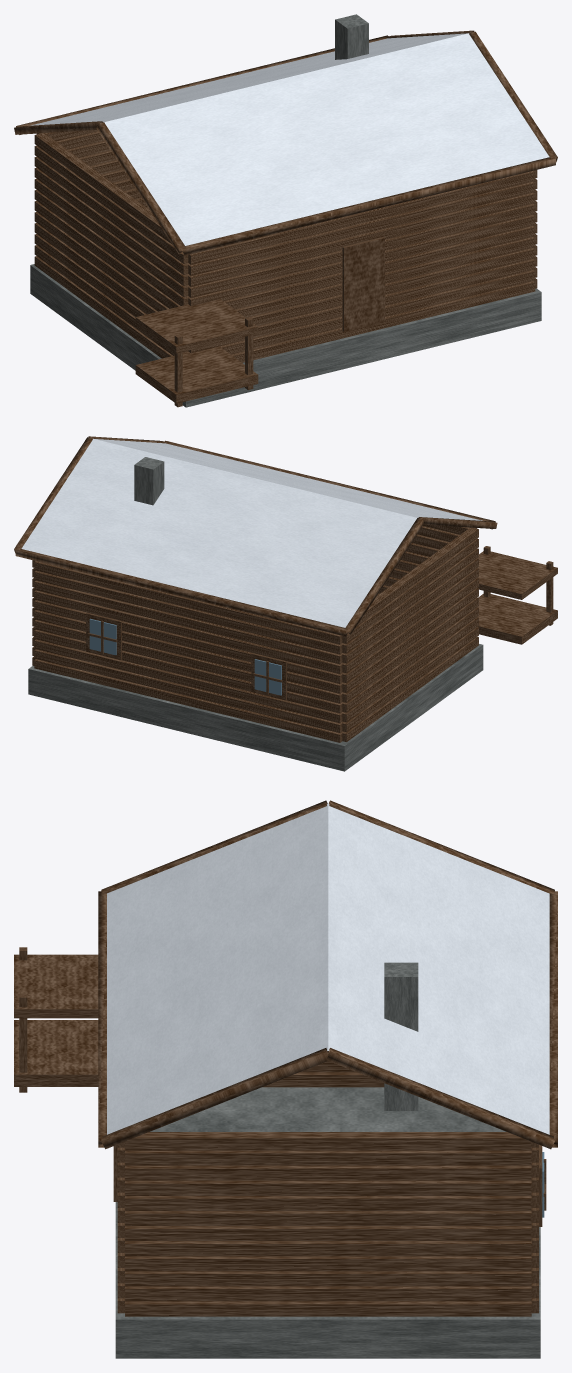
Rendered from farmhouse.obj.
3 renders of one model, top to bottom at view 1: azimuth 30°, elevation 25°; view 2: azimuth 150°, elevation 25°; view 3: azimuth 270°, elevation 25°, orthographic. The views are drawn at different scales.
Visible parts, largest first — view 1: farmhouse; view 2: farmhouse; view 3: farmhouse.
Boxes of the visible parts, x1,y1,x2,y2 form: farmhouse: (14, 14, 557, 407); farmhouse: (14, 436, 557, 771); farmhouse: (14, 800, 557, 1358).
Bounding box in the file's own units: 10.58 × 5.95 × 8.83.
10 materials, 9 textured.
